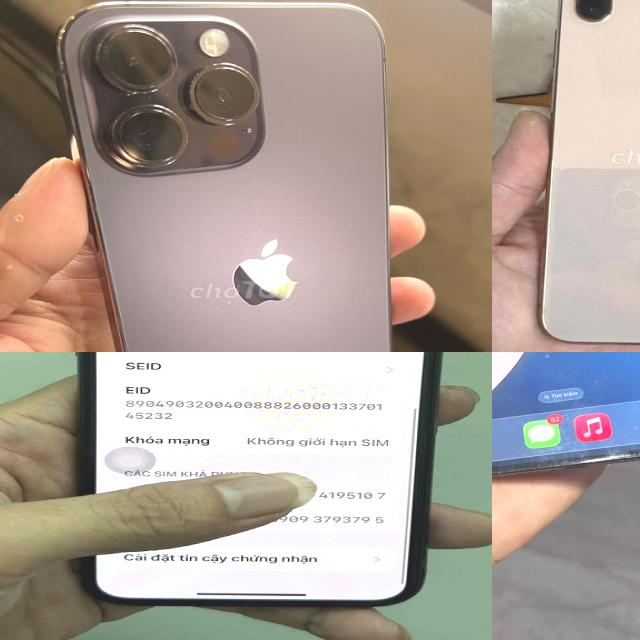gen_12_13: (492, 352, 640, 476)
gen_14: (58, 0, 415, 352)
gen_x_xs: (68, 352, 458, 624), (544, 0, 640, 352)
